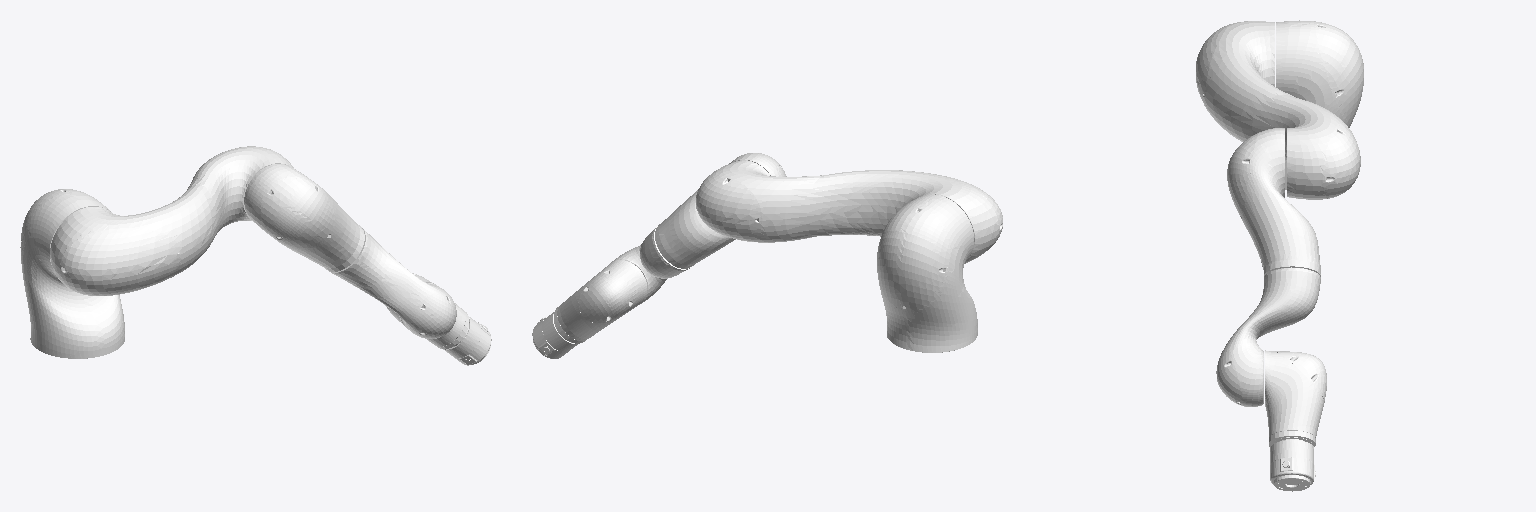
URDF robot description (hsr_co602a_gaihou):
<robot
  name="hsr_co602a_gaihou">
  <link
    name="base_link2">
    <inertial>
      <origin
        xyz="-0.0024613 5.2375E-07 0.076752"
        rpy="0 0 0" />
      <mass
        value="4.8818" />
      <inertia
        ixx="0"
        ixy="0"
        ixz="0"
        iyy="0"
        iyz="0"
        izz="0" />
    </inertial>
    <visual>
      <origin
        xyz="0 0 0"
        rpy="0 0 0" />
      <geometry>
        <mesh
          filename="package://hsr_co602a_gaihou/meshes/base_link.STL" />
      </geometry>
      <material
        name="">
        <color
          rgba="1 1 1 1" />
      </material>
    </visual>
    <collision>
      <origin
        xyz="0 0 0"
        rpy="0 0 0" />
      <geometry>
        <mesh
          filename="package://hsr_co602a_gaihou/meshes/base_link.STL" />
      </geometry>
    </collision>
  </link>
  <link
    name="R_link1">
    <inertial>
      <origin
        xyz="-3.5083E-06 -0.029409 0.065583"
        rpy="0 0 0" />
      <mass
        value="4.9043" />
      <inertia
        ixx="0"
        ixy="0"
        ixz="0"
        iyy="0"
        iyz="0"
        izz="0" />
    </inertial>
    <visual>
      <origin
        xyz="0 0 0"
        rpy="0 0 0" />
      <geometry>
        <mesh
          filename="package://hsr_co602a_gaihou/meshes/Link1.STL" />
      </geometry>
      <material
        name="">
        <color
          rgba="1 1 1 1" />
      </material>
    </visual>
    <collision>
      <origin
        xyz="0 0 0"
        rpy="0 0 0" />
      <geometry>
        <mesh
          filename="package://hsr_co602a_gaihou/meshes/Link1.STL" />
      </geometry>
    </collision>
  </link>
  <joint
    name="R_joint_1"
    type="revolute">
    <origin
      xyz="0 0 0.3517"
      rpy="3.1416 0 -8.3267E-17" />
    <parent
      link="base_link2" />
    <child
      link="R_link1" />
    <axis
      xyz="0 0 -1" />
    <limit
      lower="-3.490658503988"
      upper="3.490658503988"
      effort="28"
      velocity="3.2" />
    <safety_controller
      soft_upper_limit="3.481931857728"
      soft_lower_limit="-3.481931857728"
      k_position="100"
      k_velocity="10" />
  </joint>
  <link
    name="R_link2">
    <inertial>
      <origin
        xyz="4.8764E-06 -0.17949 -0.038569"
        rpy="0 0 0" />
      <mass
        value="6.5305" />
      <inertia
        ixx="0"
        ixy="0"
        ixz="0"
        iyy="0"
        iyz="0"
        izz="0" />
    </inertial>
    <visual>
      <origin
        xyz="0 0 0"
        rpy="0 0 0" />
      <geometry>
        <mesh
          filename="package://hsr_co602a_gaihou/meshes/Link2.STL" />
      </geometry>
      <material
        name="">
        <color
          rgba="1 1 1 1" />
      </material>
    </visual>
    <collision>
      <origin
        xyz="0 0 0"
        rpy="0 0 0" />
      <geometry>
        <mesh
          filename="package://hsr_co602a_gaihou/meshes/Link2.STL" />
      </geometry>
    </collision>
  </link>
  <joint
    name="R_joint_2"
    type="revolute">
    <origin
      xyz="0 0 0"
      rpy="1.5708 -1.5708 0" />
    <parent
      link="R_link1" />
    <child
      link="R_link2" />
    <axis
      xyz="0 0 1" />
    <limit
      lower="-2.268928027592"
      upper="1"
      effort="28"
      velocity="3.2" />
    <safety_controller
      soft_upper_limit="1"
      soft_lower_limit="-2.260201381332"
      k_position="100"
      k_velocity="10" />
  </joint>
  <link
    name="R_link3">
    <inertial>
      <origin
        xyz="-4.0966E-05 -0.085254 -0.035956"
        rpy="0 0 0" />
      <mass
        value="2.3223" />
      <inertia
        ixx="0"
        ixy="0"
        ixz="0"
        iyy="0"
        iyz="0"
        izz="0" />
    </inertial>
    <visual>
      <origin
        xyz="0 0 0"
        rpy="0 0 0" />
      <geometry>
        <mesh
          filename="package://hsr_co602a_gaihou/meshes/Link3.STL" />
      </geometry>
      <material
        name="">
        <color
          rgba="1 1 1 1" />
      </material>
    </visual>
    <collision>
      <origin
        xyz="0 0 0"
        rpy="0 0 0" />
      <geometry>
        <mesh
          filename="package://hsr_co602a_gaihou/meshes/Link3.STL" />
      </geometry>
    </collision>
  </link>
  <joint
    name="R_joint_3"
    type="revolute">
    <origin
      xyz="0 -0.40061 0"
      rpy="-3.688E-17 1.4367E-17 -1.5708" />
    <parent
      link="R_link2" />
    <child
      link="R_link3" />
    <axis
      xyz="0 0 1" />
    <limit
      lower="1"
      upper="3.665191429188"
      effort="28"
      velocity="3.2" />
    <safety_controller
      soft_upper_limit="3.656464782928"
      soft_lower_limit="0.008726646259"
      k_position="100"
      k_velocity="10" />
  </joint>
  <link
    name="R_link4">
    <inertial>
      <origin
        xyz="0.049764 2.8231E-06 0.32133"
        rpy="0 0 0" />
      <mass
        value="1.2629" />
      <inertia
        ixx="0"
        ixy="0"
        ixz="0"
        iyy="0"
        iyz="0"
        izz="0" />
    </inertial>
    <visual>
      <origin
        xyz="0 0 0"
        rpy="0 0 0" />
      <geometry>
        <mesh
          filename="package://hsr_co602a_gaihou/meshes/Link4.STL" />
      </geometry>
      <material
        name="">
        <color
          rgba="1 1 1 1" />
      </material>
    </visual>
    <collision>
      <origin
        xyz="0 0 0"
        rpy="0 0 0" />
      <geometry>
        <mesh
          filename="package://hsr_co602a_gaihou/meshes/Link4.STL" />
      </geometry>
    </collision>
  </link>
  <joint
    name="R_joint_4"
    type="revolute">
    <origin
      xyz="0 -0.0023254 0"
      rpy="1.2216 1.5708 -0.34916" />
    <parent
      link="R_link3" />
    <child
      link="R_link4" />
    <axis
      xyz="0 0 1" />
    <limit
      lower="-1.0"
      upper="3.0"
      effort="28"
      velocity="3.2" />
    <safety_controller
      soft_upper_limit="3.0"
      soft_lower_limit="-3.0"
      k_position="100"
      k_velocity="10" />
  </joint>
  <link
    name="R_link5">
    <inertial>
      <origin
        xyz="1.3212E-06 -0.042021 0.0022165"
        rpy="0 0 0" />
      <mass
        value="1.1452" />
      <inertia
        ixx="0"
        ixy="0"
        ixz="0"
        iyy="0"
        iyz="0"
        izz="0" />
    </inertial>
    <visual>
      <origin
        xyz="0 0 0"
        rpy="0 0 0" />
      <geometry>
        <mesh
          filename="package://hsr_co602a_gaihou/meshes/Link5.STL" />
      </geometry>
      <material
        name="">
        <color
          rgba="1 1 1 1" />
      </material>
    </visual>
    <collision>
      <origin
        xyz="0 0 0"
        rpy="0 0 0" />
      <geometry>
        <mesh
          filename="package://hsr_co602a_gaihou/meshes/Link5.STL" />
      </geometry>
    </collision>
  </link>
  <joint
    name="R_joint_5"
    type="revolute">
    <origin
      xyz="0 0 0.39859"
      rpy="-1.5708 -1.4529E-17 1.5708" />
    <parent
      link="R_link4" />
    <child
      link="R_link5" />
    <axis
      xyz="0 0 1" />
    <limit
      lower="-2.268928027592"
      upper="2.268928027592"
      effort="28"
      velocity="3.2" />
    <safety_controller
      soft_upper_limit="2.260201381332"
      soft_lower_limit="-2.260201381332"
      k_position="100"
      k_velocity="10" />
  </joint>
  <link
    name="R_link6">
    <inertial>
      <origin
        xyz="3.5784E-05 -3.8806E-05 -0.025197"
        rpy="0 0 0" />
      <mass
        value="0.20458" />
      <inertia
        ixx="0"
        ixy="0"
        ixz="0"
        iyy="0"
        iyz="0"
        izz="0" />
    </inertial>
    <visual>
      <origin
        xyz="0 0 0"
        rpy="0 0 0" />
      <geometry>
        <mesh
          filename="package://hsr_co602a_gaihou/meshes/Link6.STL" />
      </geometry>
      <material
        name="">
        <color
          rgba="1 1 1 1" />
      </material>
    </visual>
    <collision>
      <origin
        xyz="0 0 0"
        rpy="0 0 0" />
      <geometry>
        <mesh
          filename="package://hsr_co602a_gaihou/meshes/Link6.STL" />
      </geometry>
    </collision>
  </link>
  <joint
    name="R_joint_6"
    type="revolute">
    <origin
      xyz="0 -0.20056 0"
      rpy="-1.5708 2.4478E-17 -3.1416" />
    <parent
      link="R_link5" />
    <child
      link="R_link6" />
    <axis
      xyz="0 0 1" />
    <limit
      lower="-5.1"
      upper="5.1"
      effort="28"
      velocity="3.2" />
    <safety_controller
      soft_upper_limit="5.1"
      soft_lower_limit="-5.1"
      k_position="100"
      k_velocity="10" />
  </joint>
</robot>

--- What the picture shows (computed from the rendered views, not written in the file) ---
The picture shows the robot from 3 angles, left to right: view 1: azimuth 30°, elevation 25°; view 2: azimuth 150°, elevation 25°; view 3: azimuth 270°, elevation 25°; orthographic projection.
Robot: hsr_co602a_gaihou — 7 links, 6 joints (6 revolute); root link base_link2; default pose: all joints at 0 but 1 set to mid-range because 0 is outside their limits (R_joint_3 = 2.33).
Visible links, largest first — view 1: R_link2, R_link1, R_link3, R_link4, R_link6, R_link5; view 2: R_link2, R_link1, R_link5, R_link3, R_link4, R_link6; view 3: R_link2, R_link3, R_link1, R_link4, R_link5, R_link6.
Boxes of the visible links, x1=… form: R_link2: x1=50, y1=146, x2=293, y2=295; R_link1: x1=20, y1=189, x2=124, y2=358; R_link3: x1=244, y1=164, x2=364, y2=271; R_link4: x1=329, y1=228, x2=456, y2=338; R_link6: x1=443, y1=317, x2=491, y2=365; R_link5: x1=385, y1=273, x2=468, y2=348; R_link2: x1=696, y1=160, x2=1002, y2=263; R_link1: x1=877, y1=194, x2=977, y2=352; R_link5: x1=554, y1=260, x2=646, y2=343; R_link3: x1=655, y1=153, x2=786, y2=268; R_link4: x1=611, y1=226, x2=690, y2=303; R_link6: x1=532, y1=312, x2=577, y2=358; R_link2: x1=1196, y1=21, x2=1360, y2=199; R_link3: x1=1227, y1=128, x2=1320, y2=276; R_link1: x1=1276, y1=20, x2=1363, y2=189; R_link4: x1=1216, y1=268, x2=1320, y2=406; R_link5: x1=1265, y1=350, x2=1326, y2=447; R_link6: x1=1270, y1=440, x2=1315, y2=491.
Bounding box of the posed robot: 0.9484 × 0.2939 × 0.5165 m (x, y, z).
Meshes: 7 distinct files referenced, 6 mesh visuals loaded (6 binary STL); not drawn: 1 (reference not matched to a file when rendering).